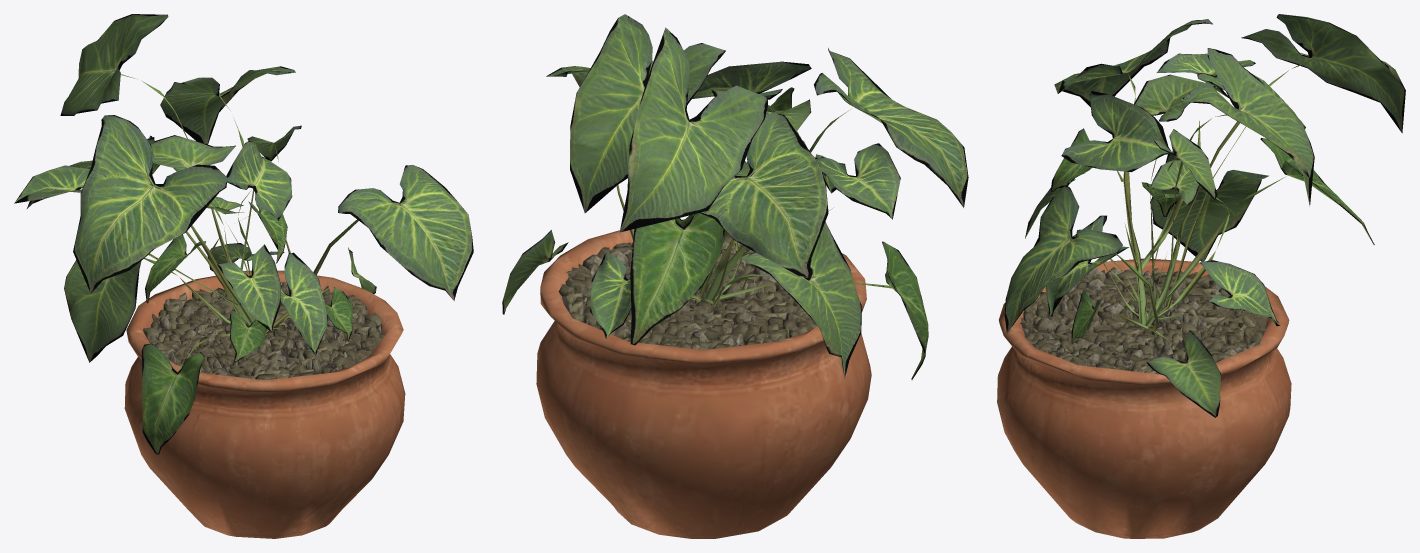
Rendered from plant-medium.glb.
The picture shows the model from 3 angles, left to right: view 1: azimuth 30°, elevation 25°; view 2: azimuth 150°, elevation 25°; view 3: azimuth 270°, elevation 25°; orthographic projection. The views are drawn at different scales.
Visible parts, largest first — view 1: potted_plant_02_leaves, potted_plant_02_pot; view 2: potted_plant_02_leaves, potted_plant_02_pot; view 3: potted_plant_02_pot, potted_plant_02_leaves.
Boxes of the visible parts, x1,y1,x2,y2 form: potted_plant_02_leaves: (14,14,473,454); potted_plant_02_pot: (124,270,405,538); potted_plant_02_leaves: (502,14,968,379); potted_plant_02_pot: (536,219,871,538); potted_plant_02_pot: (997,258,1291,538); potted_plant_02_leaves: (1004,14,1405,417).
Bounding box in the file's own units: 0.7012 × 0.8395 × 0.6537.
2 materials, 2 textured.
